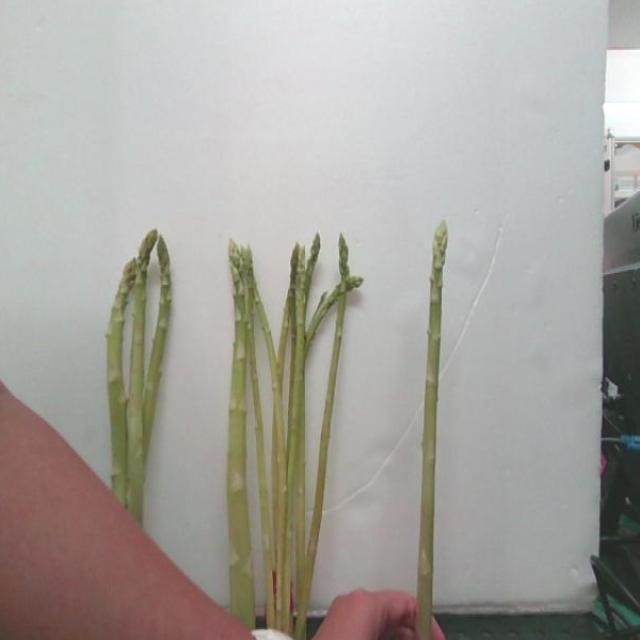aspargus: (417, 223, 449, 640)
